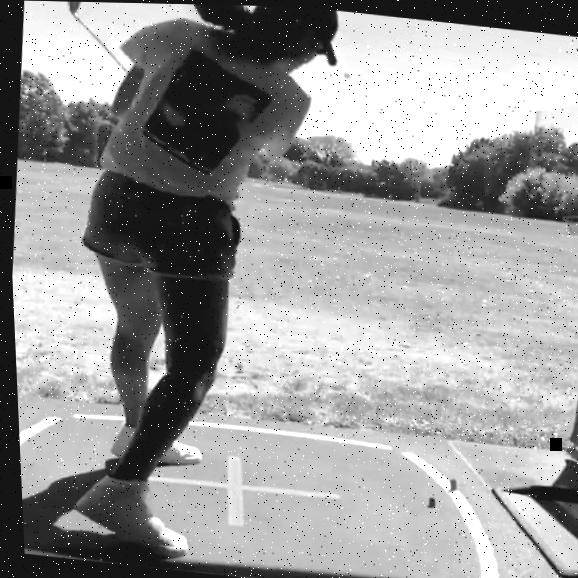ClubHead: (66, 1, 82, 13)
